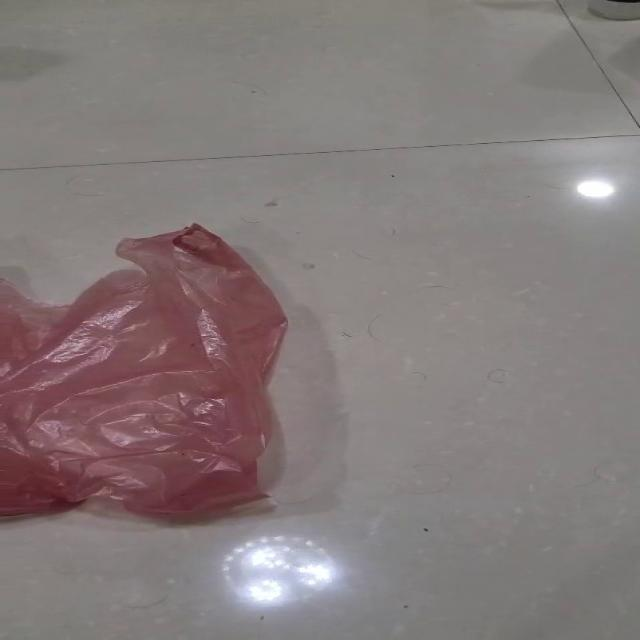plastic: (0, 221, 289, 519)
